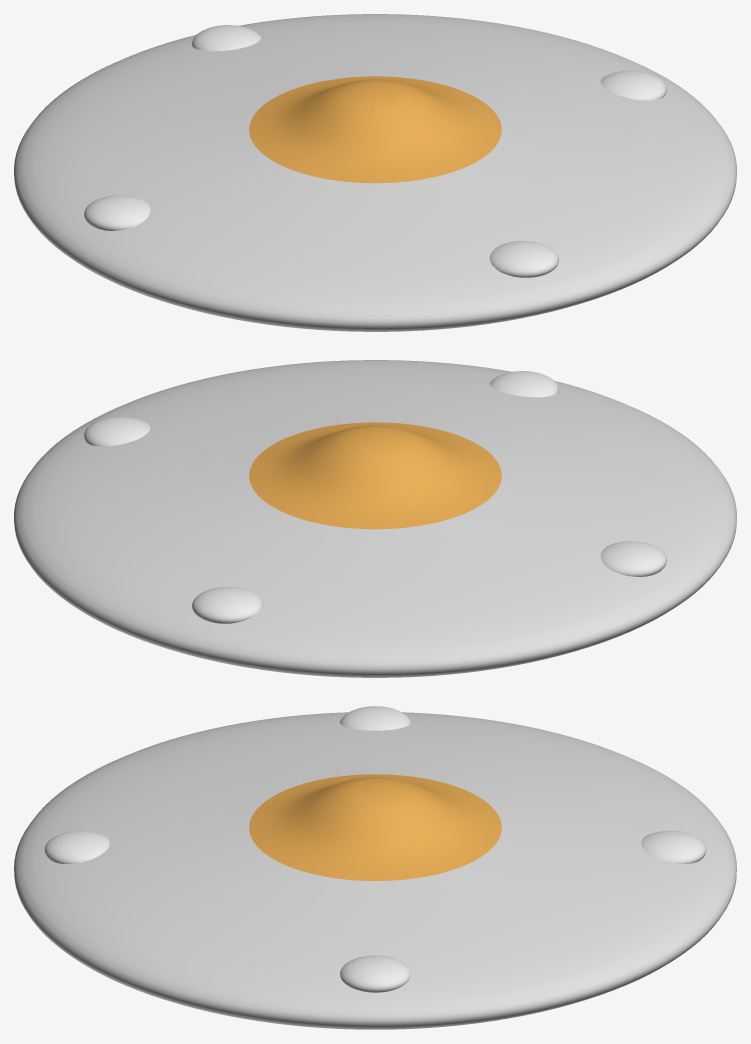
File: UFO_unwrapped2.fbx
3 renders of one model, top to bottom at view 1: azimuth 30°, elevation 25°; view 2: azimuth 150°, elevation 25°; view 3: azimuth 270°, elevation 25°, orthographic.
Parts seen in each view (by area): view 1: ufoBody, ufoTop, ballLights1, ballLights2; view 2: ufoBody, ufoTop, ballLights1, ballLights2; view 3: ufoBody, ufoTop, ballLights2, ballLights1.
Boxes of the visible parts, x1=… form: ufoBody: x1=14, y1=14, x2=736, y2=331; ufoTop: x1=249, y1=76, x2=501, y2=183; ballLights1: x1=192, y1=25, x2=558, y2=277; ballLights2: x1=84, y1=70, x2=666, y2=230; ufoBody: x1=14, y1=360, x2=736, y2=677; ufoTop: x1=249, y1=422, x2=501, y2=529; ballLights1: x1=192, y1=371, x2=558, y2=623; ballLights2: x1=84, y1=416, x2=666, y2=576; ufoBody: x1=14, y1=712, x2=736, y2=1029; ufoTop: x1=249, y1=774, x2=501, y2=880; ballLights2: x1=340, y1=706, x2=410, y2=992; ballLights1: x1=44, y1=830, x2=706, y2=864.
Size of the model in its own units: 525 by 124 by 525.
